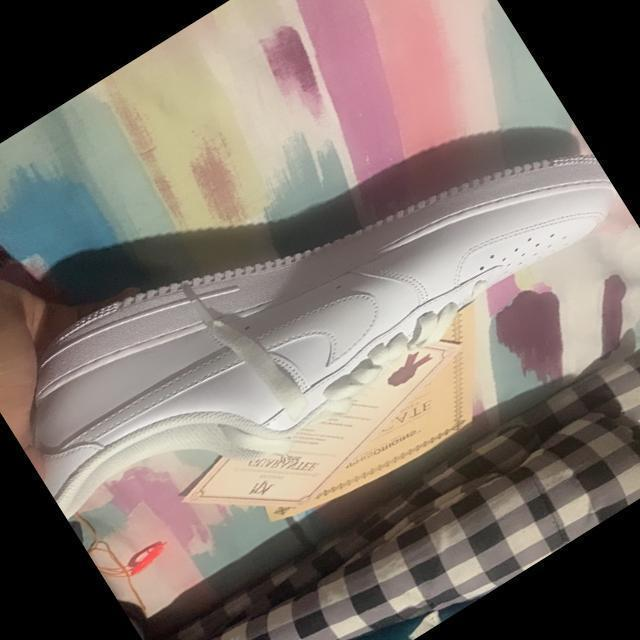nike original air force: (0, 38, 638, 565)
